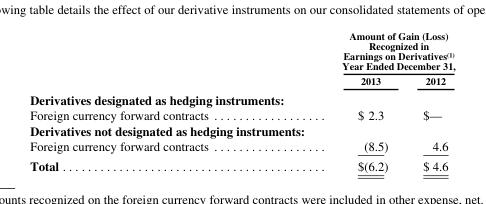table: (29, 29, 454, 172)
table column: (29, 29, 274, 172), (274, 29, 404, 172), (404, 29, 454, 172)
table column header: (29, 29, 454, 89)
table projected row header: (29, 89, 454, 107), (29, 122, 454, 137)
table row: (29, 29, 454, 72), (29, 89, 454, 107), (29, 137, 454, 155), (29, 72, 454, 89), (29, 155, 454, 172), (29, 107, 454, 122), (29, 122, 454, 137)
table spanning cell: (274, 29, 454, 72)
